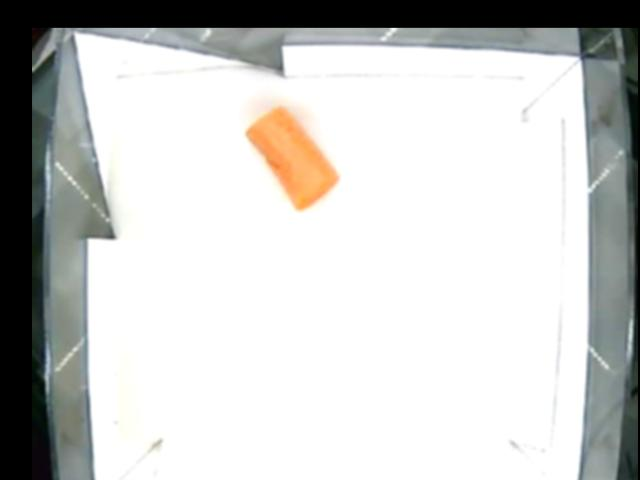Carrot: (244, 107, 340, 211)
